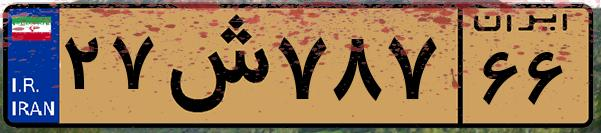2: (57, 26, 110, 100)
6: (475, 38, 525, 113), (525, 38, 570, 115)
7: (270, 28, 330, 110), (385, 28, 445, 110), (110, 28, 158, 98)
8: (330, 28, 385, 110)
ش: (158, 12, 270, 120)
